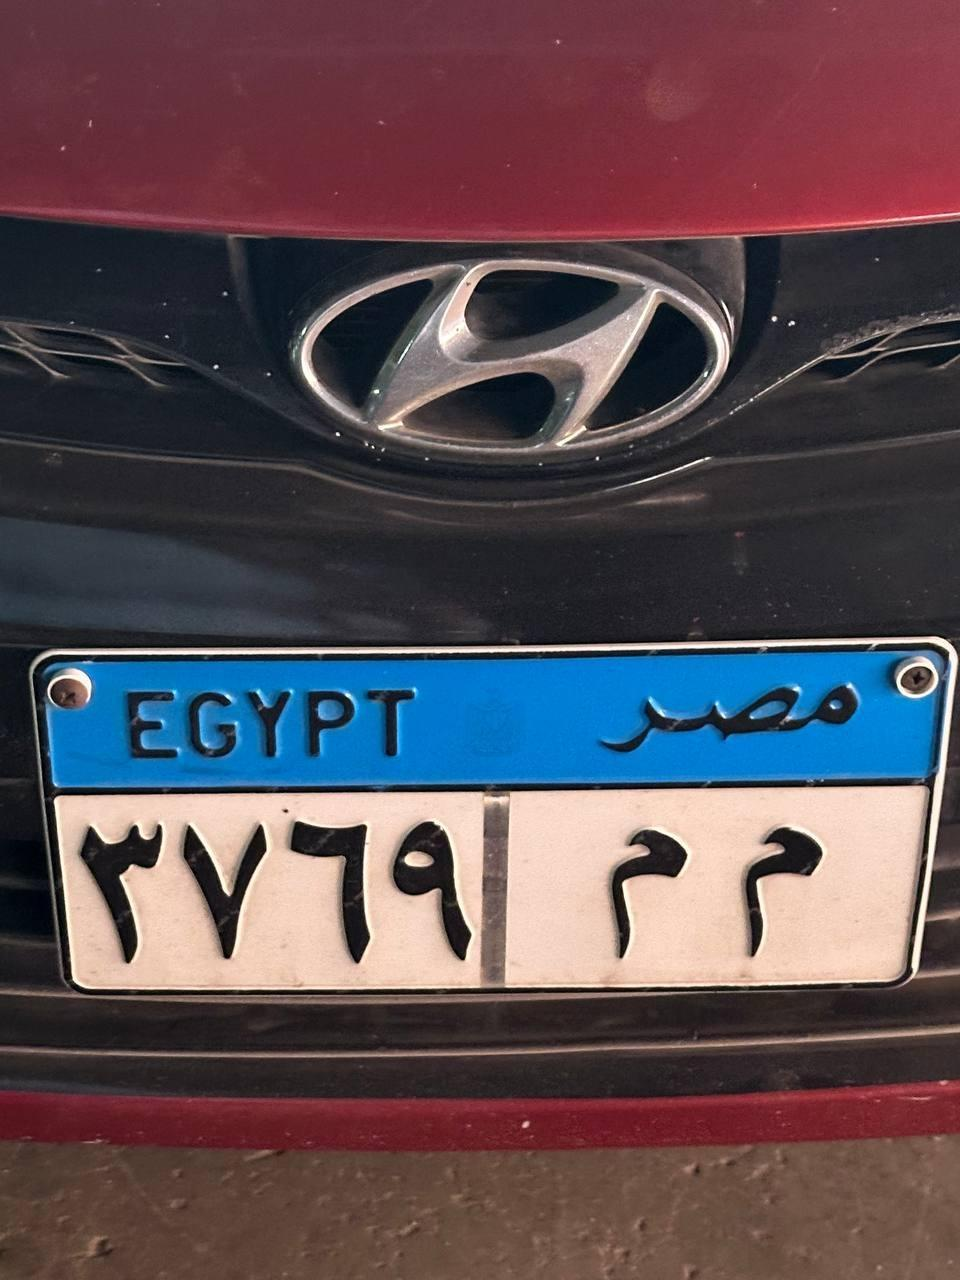3: (73, 810, 165, 960)
6: (278, 813, 377, 966)
7: (166, 808, 272, 958)
9: (388, 820, 486, 968)
License Plate: (25, 636, 960, 1006)
Meem: (736, 826, 840, 968), (608, 803, 681, 966)
